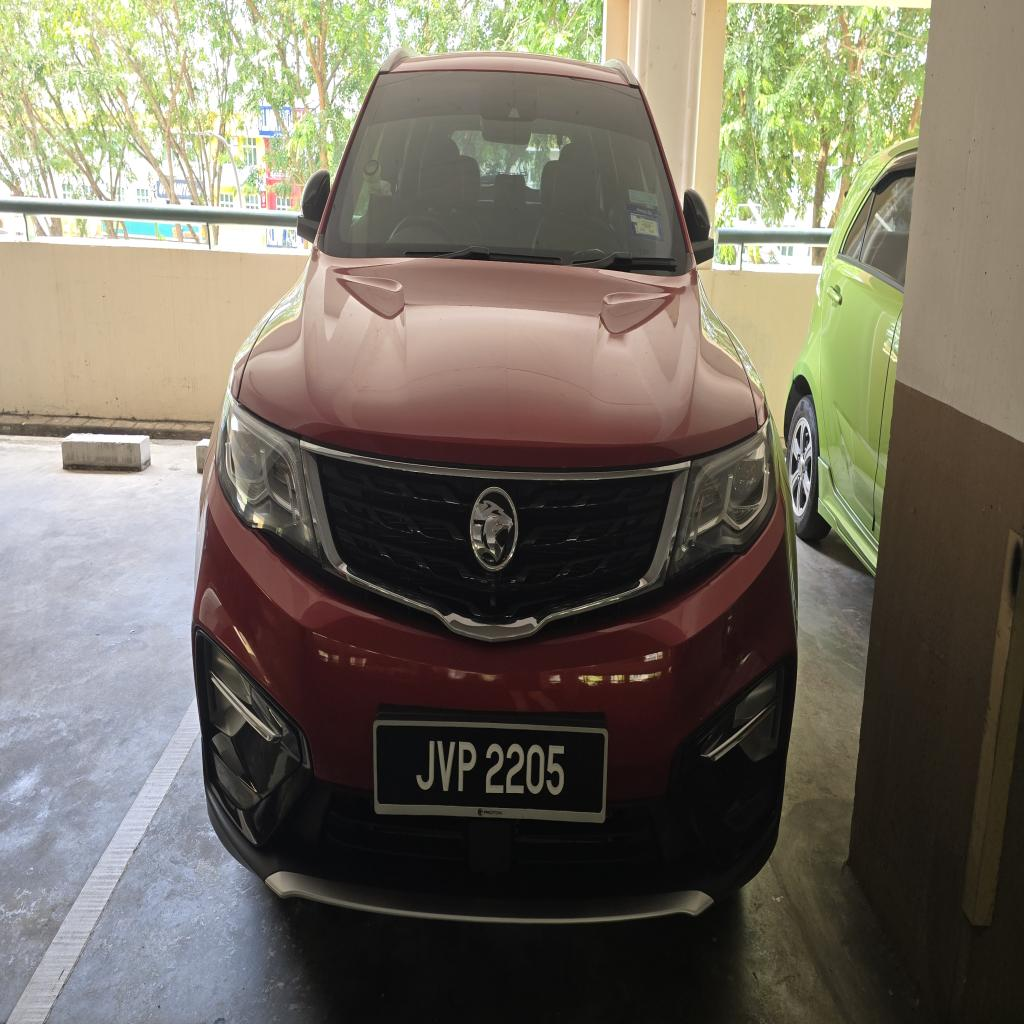car: (194, 52, 796, 921)
car plate: (374, 718, 607, 822)
